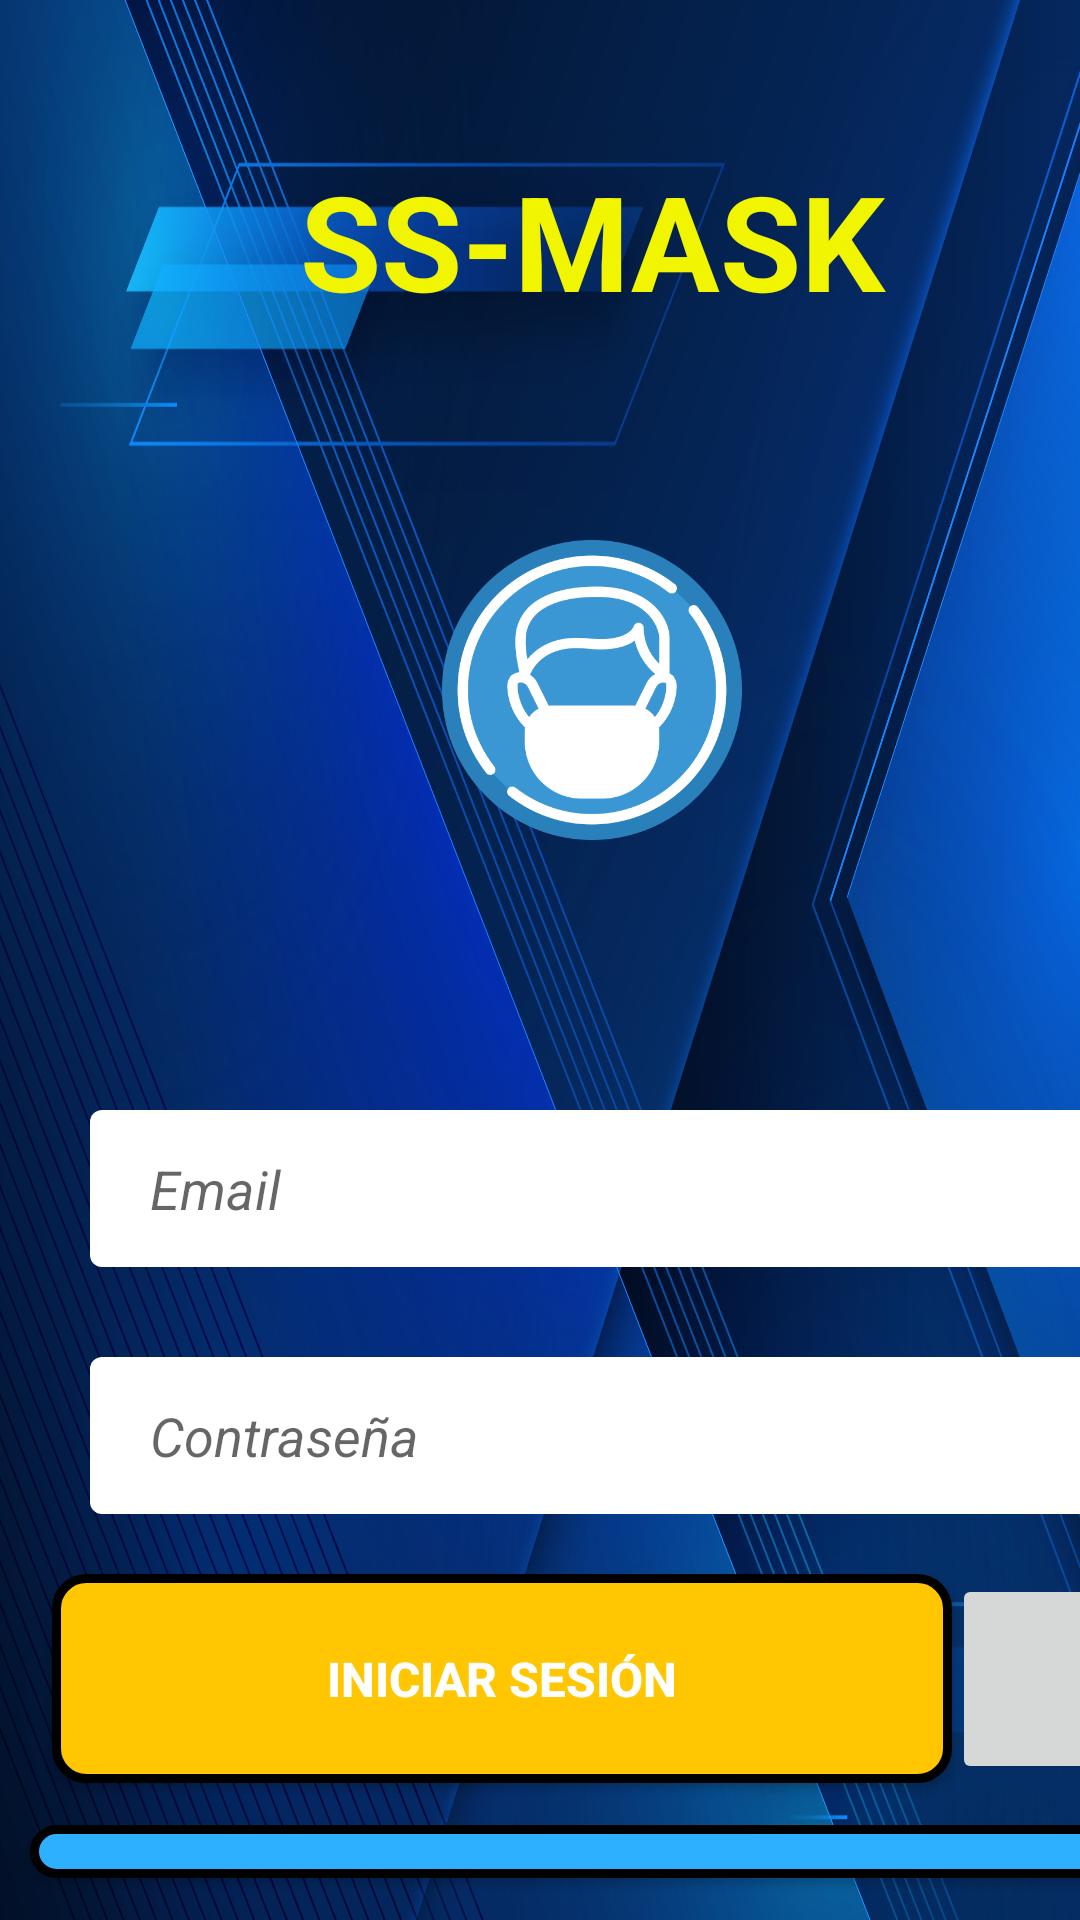

Screen size 1080*1920. Icon name, then its box in pixels as (x1, y1, x2, y2):
mascarilla: (442, 540, 742, 840)
